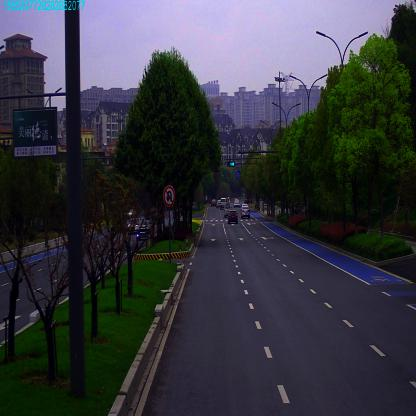traffic-light: (226, 160, 235, 166)
